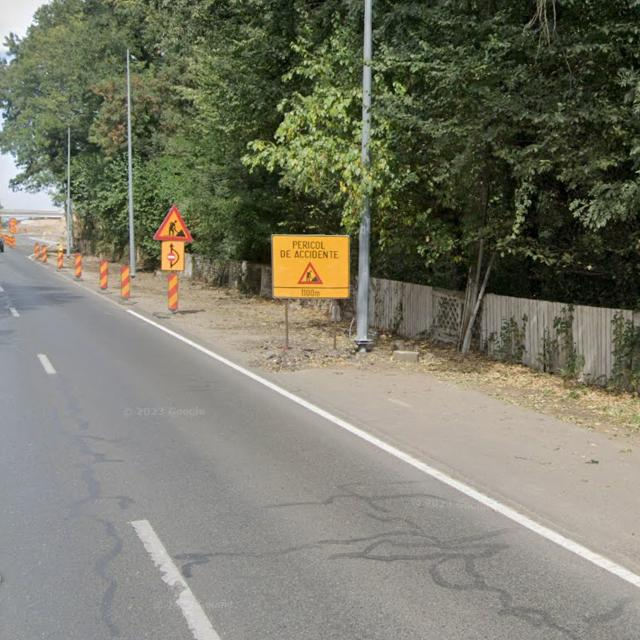forb_ahead: (167, 253, 175, 261)
warn_construction: (153, 205, 193, 242), (298, 260, 324, 286)
